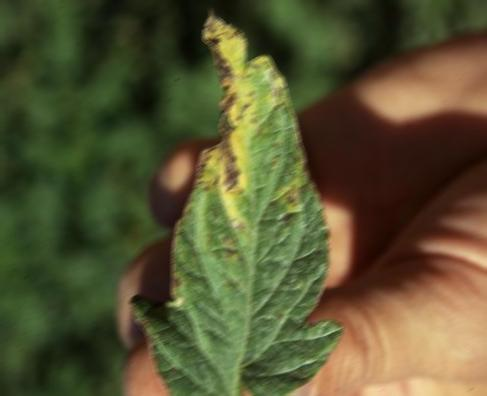Tomato leaf bacterial spot: (128, 3, 348, 396)
